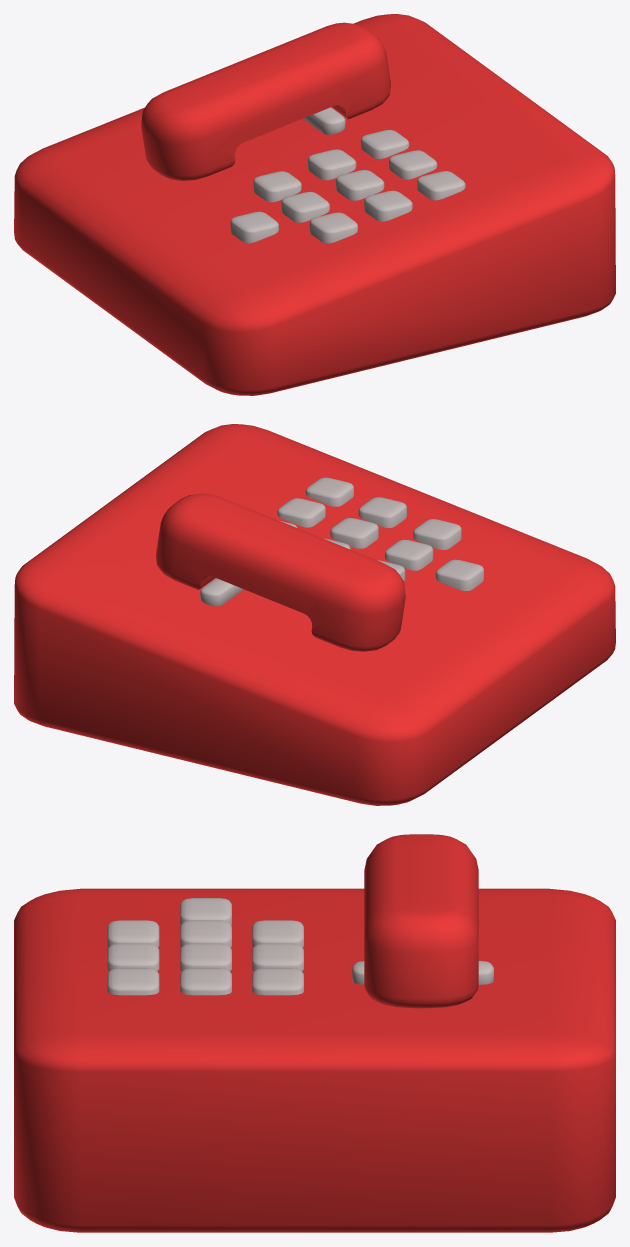
Rendered from phone.glb.
3 renders of one model, top to bottom at view 1: azimuth 30°, elevation 25°; view 2: azimuth 150°, elevation 25°; view 3: azimuth 270°, elevation 25°, orthographic. The views are drawn at different scales.
Parts seen in each view (by area): view 1: PhoneBase, Phone; view 2: PhoneBase, Phone; view 3: PhoneBase, Phone.
Boxes of the visible parts, x1,y1,x2,y2 form: PhoneBase: (14, 14, 615, 395); Phone: (141, 22, 390, 180); PhoneBase: (14, 424, 615, 805); Phone: (156, 493, 405, 651); PhoneBase: (14, 888, 615, 1232); Phone: (364, 834, 478, 1008).
Bounding box in the file's own units: 0.3076 × 0.1447 × 0.3076.
